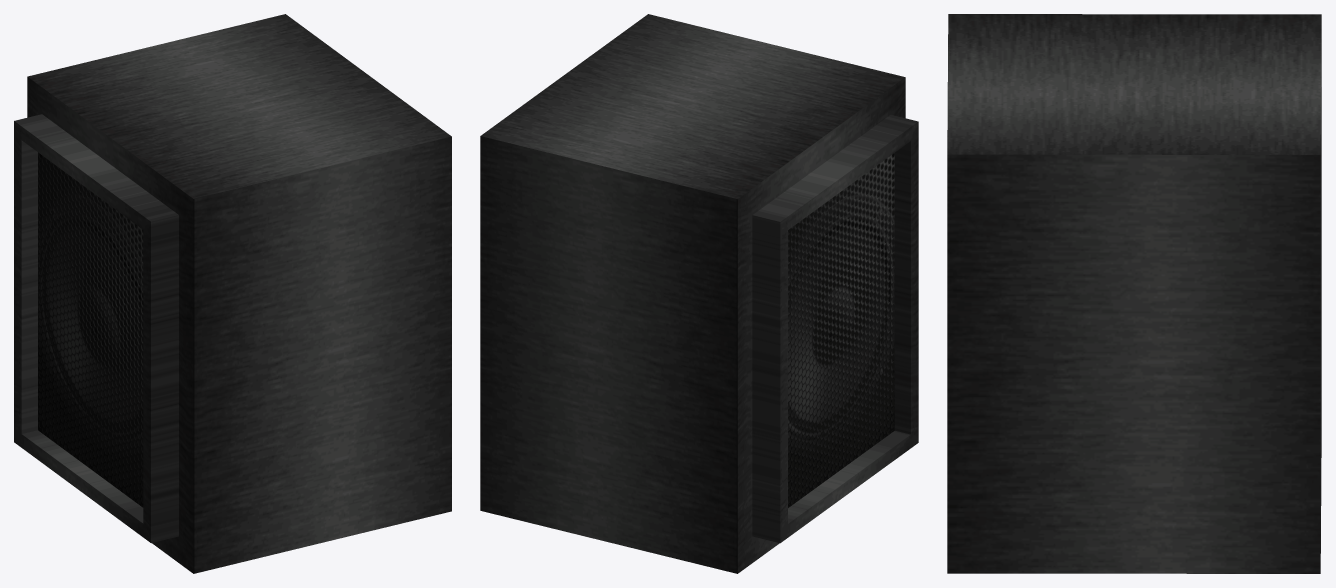
The model's file is speaker.glb.
3 renders of one model, left to right at view 1: azimuth 30°, elevation 25°; view 2: azimuth 150°, elevation 25°; view 3: azimuth 270°, elevation 25°, orthographic. The views are drawn at different scales.
Visible parts, largest first — view 1: world; view 2: world; view 3: world.
Boxes of the visible parts, <box> form: world: <box>14,14,451,573</box>; world: <box>480,14,918,573</box>; world: <box>947,14,1321,573</box>.
Bounding box in the file's own units: 0.7872 × 0.9845 × 0.7972.
Materials: 1 (1 with a texture image).
